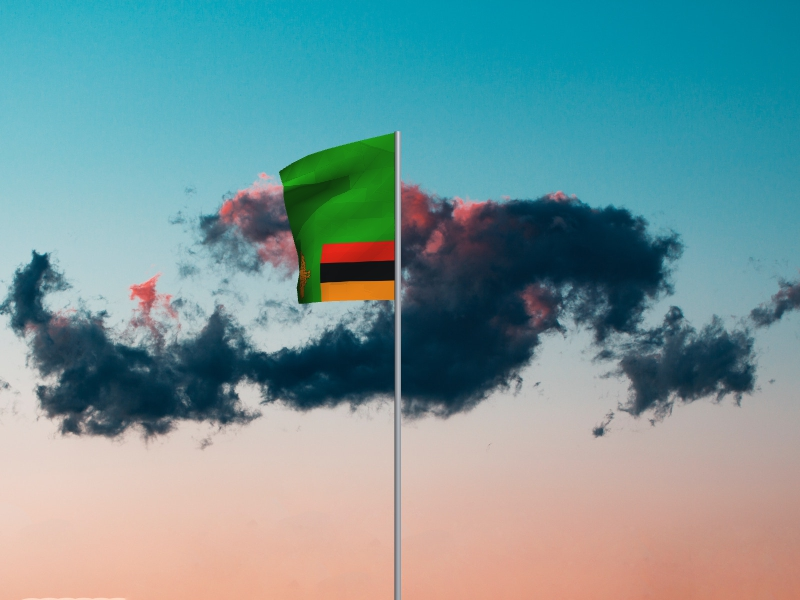zm: (279, 134, 396, 306)
